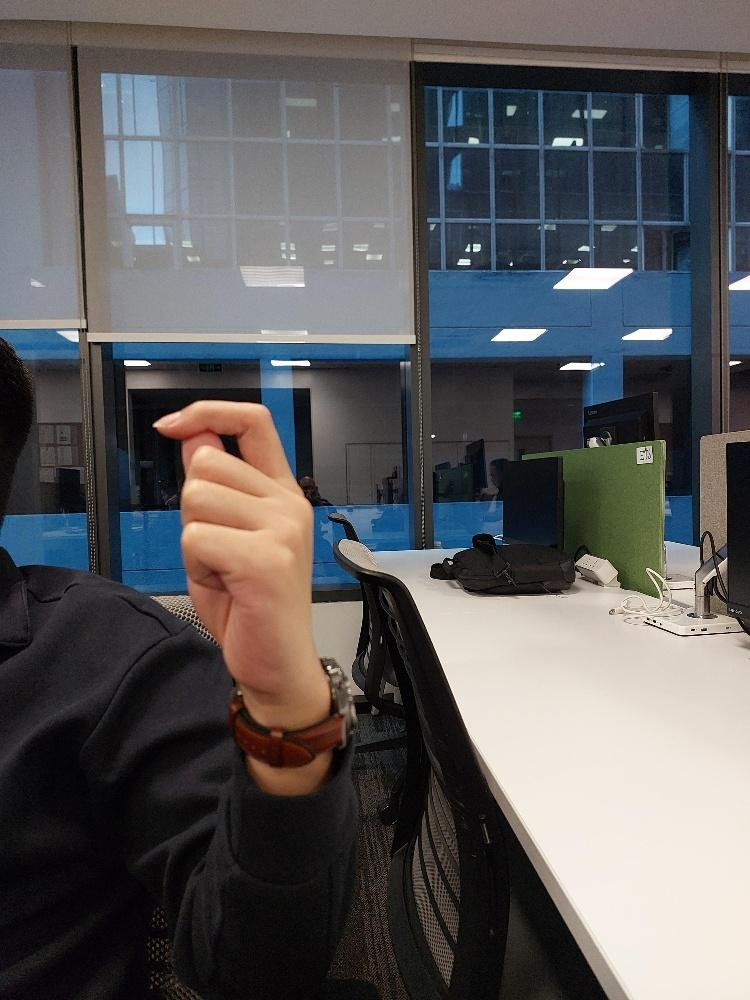t: (153, 399, 314, 692)
